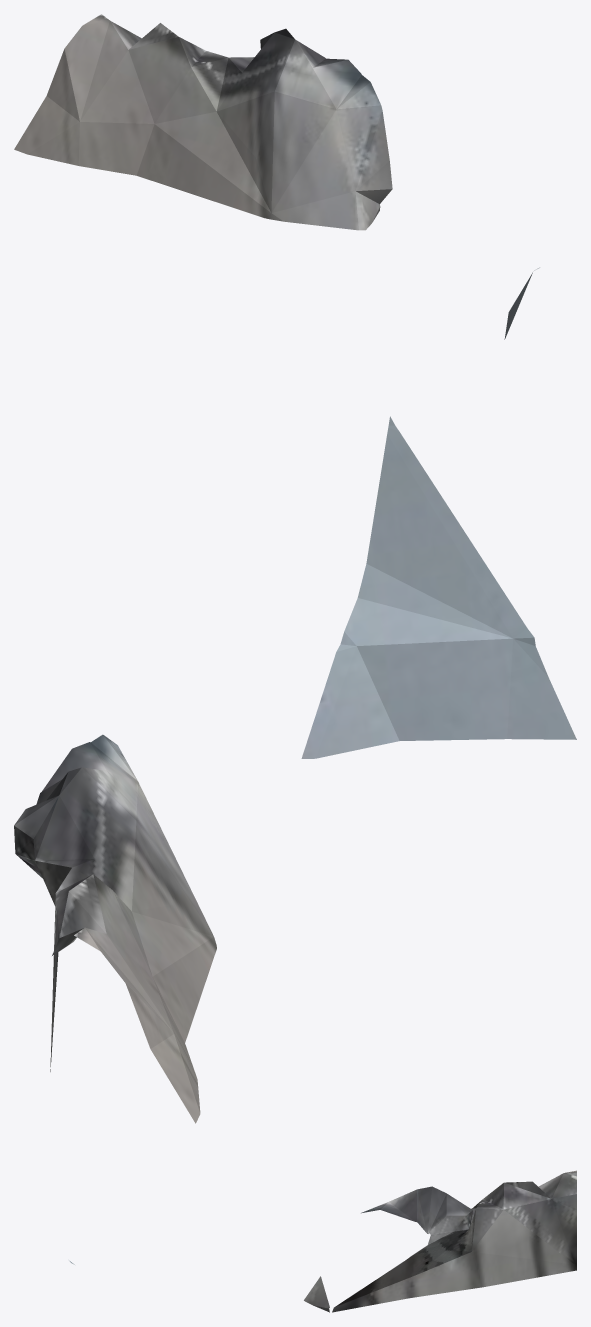
3 views of the same model, one above another, from view 1: azimuth 30°, elevation 25°; view 2: azimuth 150°, elevation 25°; view 3: azimuth 270°, elevation 25° (orthographic). The views are drawn at different scales.
Bounding box in the file's own units: 0.2913 × 0.2629 × 0.8373.
1 material, 1 textured.
